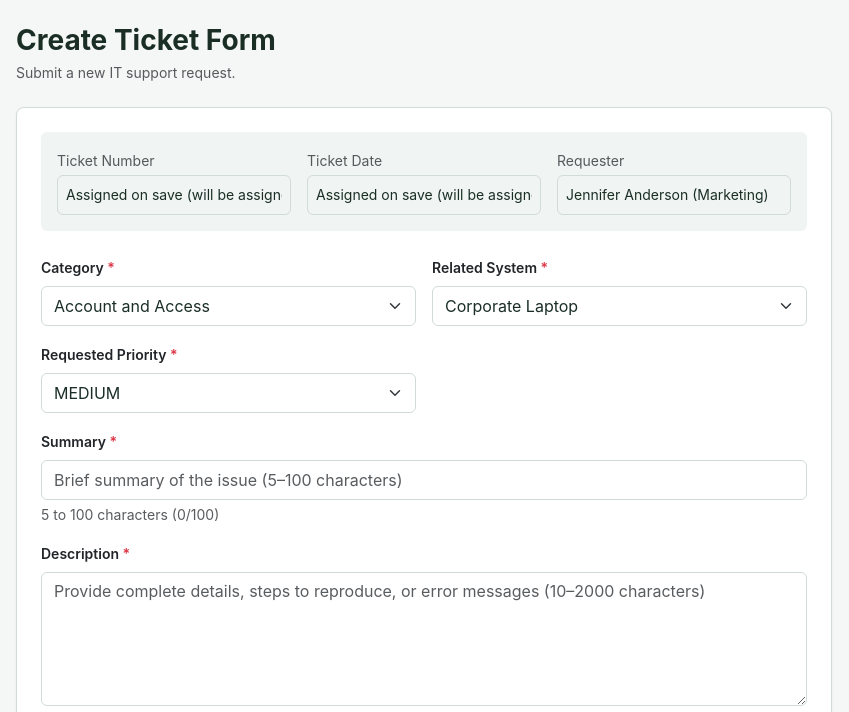
Test: Create Ticket Screen (UI-01 to UI-04, UI-12, UI-13, STYLE-01, STYLE-04) › UI-13: displays backend Ticket Number as headline, Ticket Date, and retains requester identity
Select "Account and Access" in the dropdown labelled "Category *". click: (228, 306)
box: top-left (41, 286), bottom-right (416, 326)
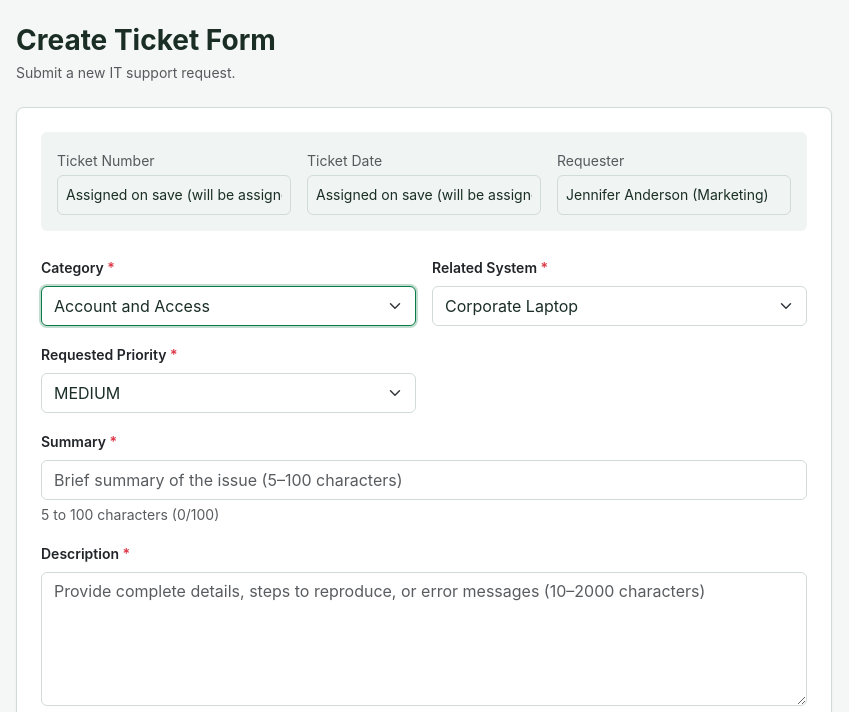
Select "Corporate Laptop" in the dropdown labelled "Related System *". click: (620, 306)
box: top-left (432, 286), bottom-right (807, 326)
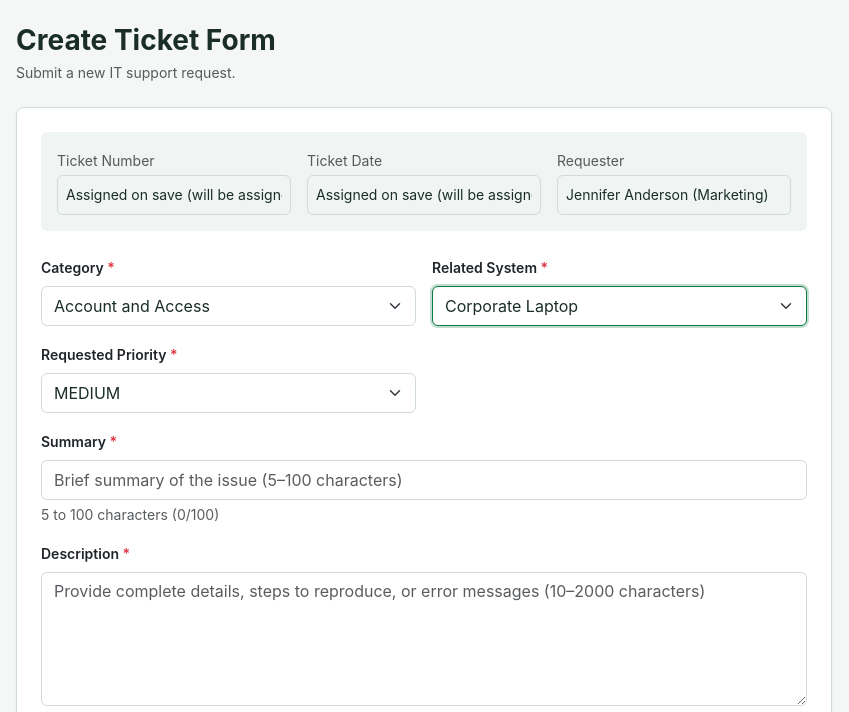
Type "My submitted issue" into the field labelled "Summary *". click: (424, 480)
box: top-left (41, 460), bottom-right (807, 500)
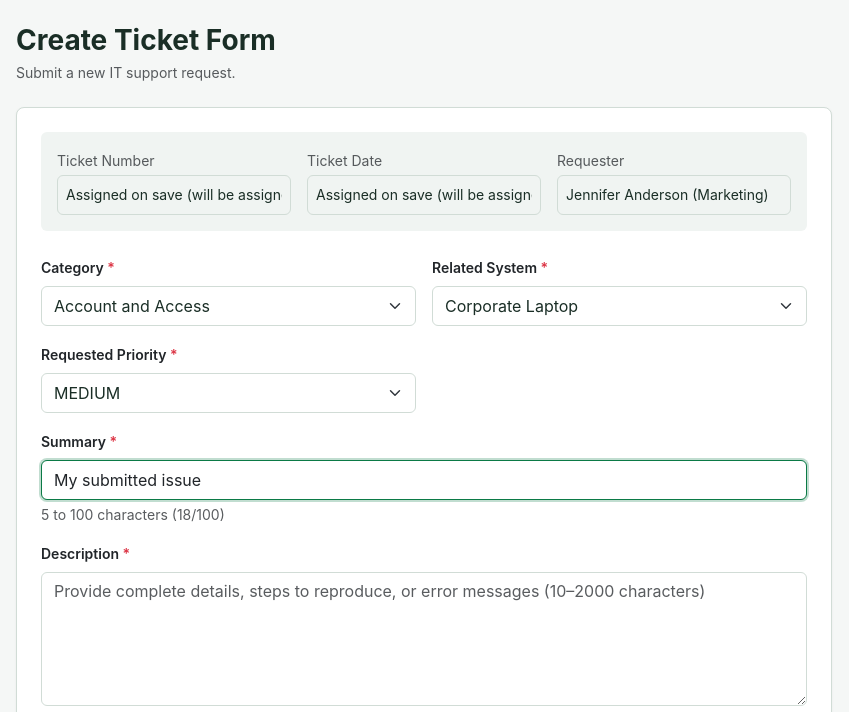
Type "My submitted detailed description." into the text box labelled "Description *". click: (424, 639)
box: top-left (41, 572), bottom-right (807, 706)
(page scrolled)
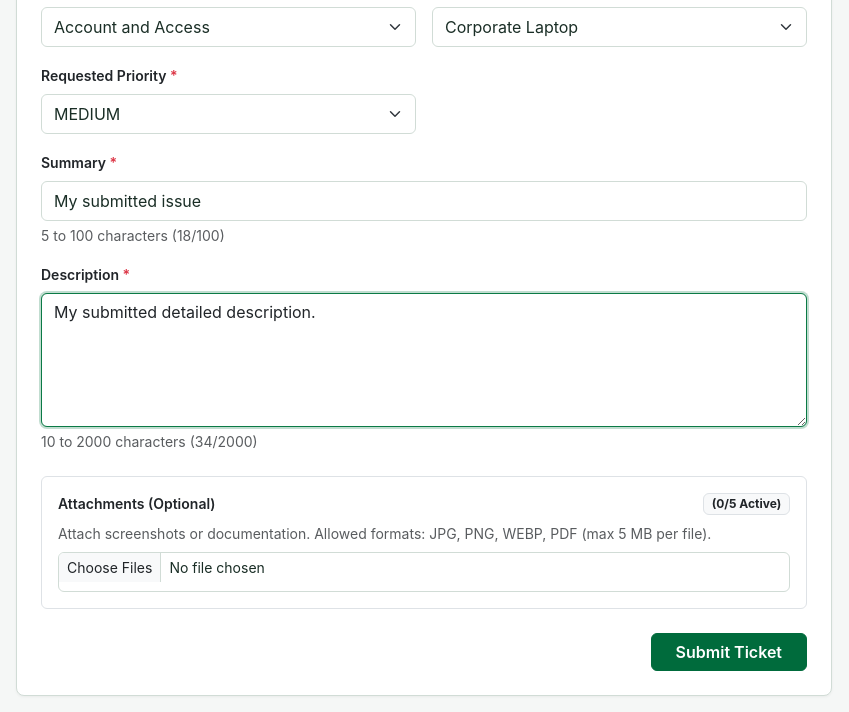
Click the button "Submit Ticket". click: (729, 652)
box: top-left (651, 633), bottom-right (807, 671)
(page scrolled)
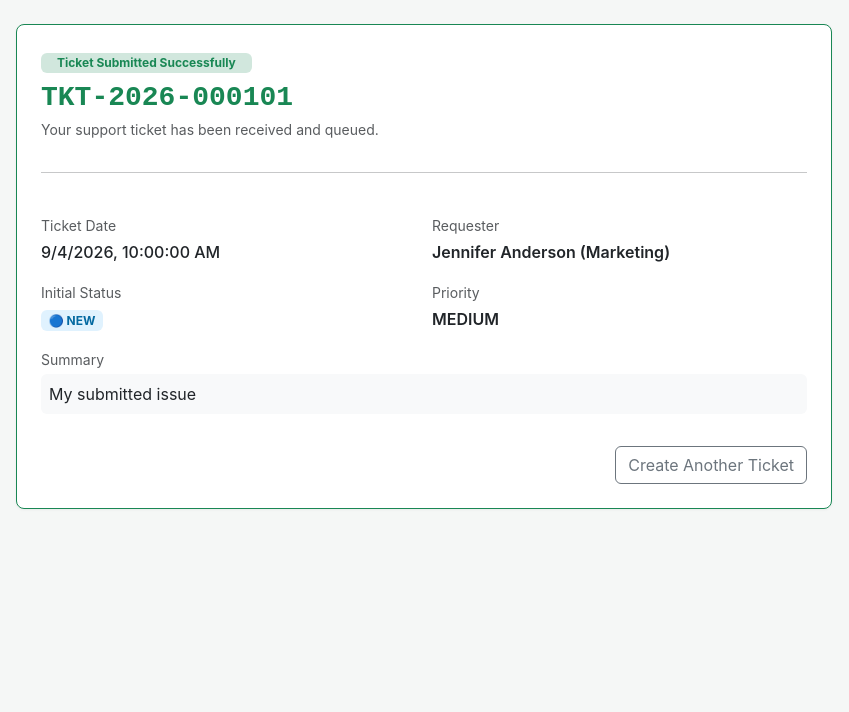
Expected: the heading with test id "success-ticket-no" reads "TKT-2026-000101", top-left (41, 82), bottom-right (293, 113)
